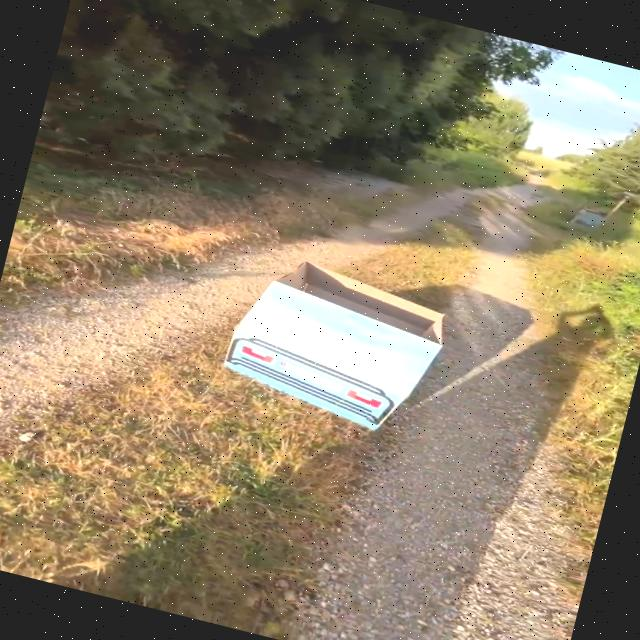blue_car: (196, 224, 477, 477)
